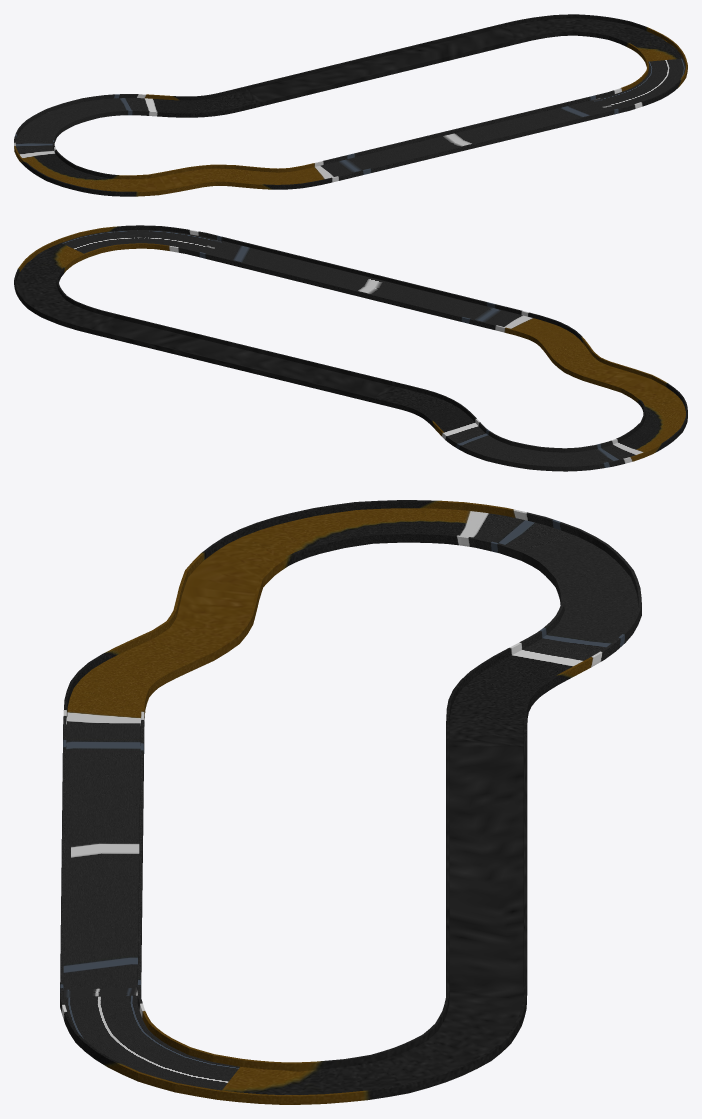
File: track8.obj
3 views of the same model, one above another, from view 1: azimuth 30°, elevation 25°; view 2: azimuth 150°, elevation 25°; view 3: azimuth 270°, elevation 25° (orthographic). The views are drawn at different scales.
Visible parts, largest first — view 1: track_Cube; view 2: track_Cube; view 3: track_Cube.
Part boxes in pixels (box(x1,y1,x2,y2)): track_Cube: box(14, 14, 687, 196); track_Cube: box(14, 225, 687, 471); track_Cube: box(60, 500, 641, 1104).
Size of the model in its own units: 305 by 2 by 126.
1 material, 1 textured.
